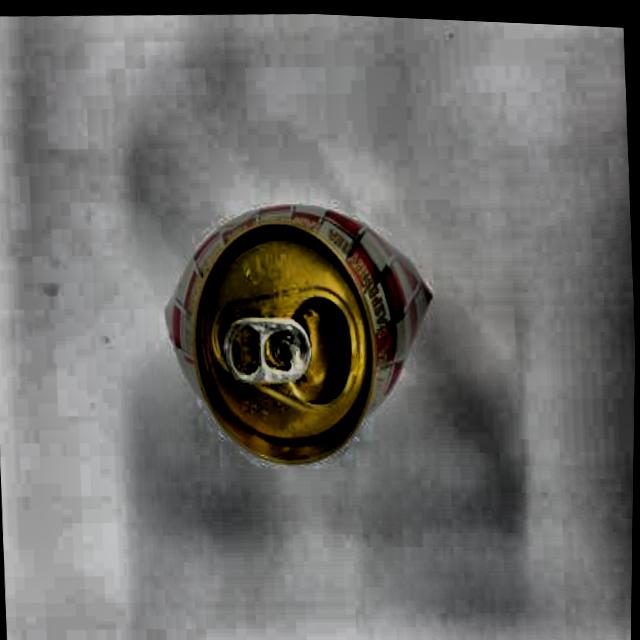Cans: (131, 154, 463, 499)
